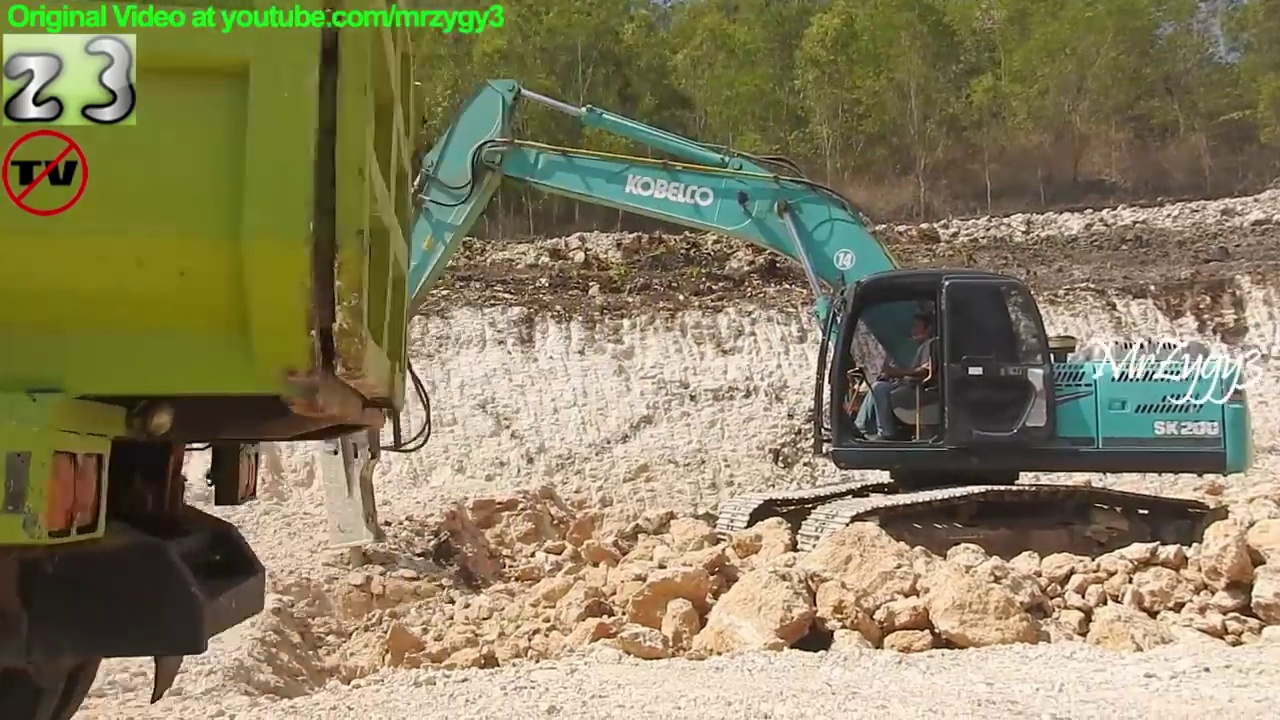excavator: (302, 75, 1255, 596)
truck: (1, 1, 431, 720)
